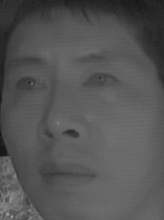eye: (80, 67, 121, 94), (15, 72, 48, 96)
mouth: (35, 155, 100, 193)
